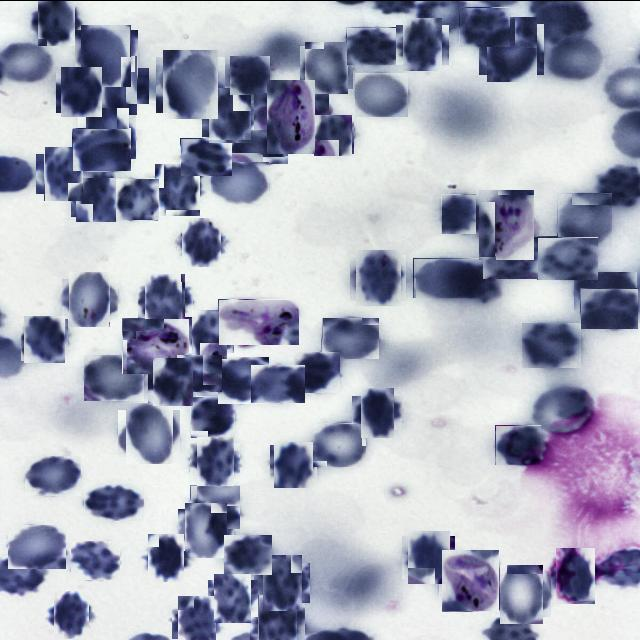red blood cell: (159, 53, 222, 115), (482, 19, 540, 78), (531, 383, 595, 433), (78, 27, 134, 82), (557, 192, 612, 246), (122, 406, 176, 460), (413, 257, 485, 297), (84, 354, 144, 400), (496, 568, 548, 620), (537, 236, 598, 280), (522, 322, 581, 367), (81, 110, 132, 162), (8, 524, 66, 568), (353, 252, 404, 302), (72, 127, 131, 170), (354, 71, 408, 116), (153, 164, 202, 213), (205, 90, 254, 139), (182, 504, 230, 554), (218, 356, 269, 403), (322, 316, 379, 358), (574, 271, 637, 309), (212, 161, 270, 202), (580, 287, 638, 328), (313, 422, 367, 466), (95, 61, 144, 109), (483, 236, 538, 278), (142, 276, 190, 324), (66, 274, 114, 322), (302, 42, 350, 90), (404, 532, 452, 580), (552, 550, 600, 598), (258, 558, 306, 606), (547, 37, 601, 79), (25, 455, 81, 495), (190, 484, 240, 528), (40, 150, 86, 197), (84, 484, 144, 520), (400, 21, 446, 67), (228, 128, 288, 163), (59, 68, 104, 114), (251, 364, 305, 402), (459, 6, 510, 46), (74, 174, 120, 218), (254, 597, 301, 640), (179, 220, 224, 264), (22, 317, 67, 361), (150, 359, 194, 404), (180, 137, 232, 175), (193, 439, 237, 483), (211, 576, 255, 620), (174, 597, 219, 640), (224, 534, 272, 574), (71, 540, 120, 579), (346, 26, 396, 64), (190, 395, 235, 437), (294, 351, 340, 392), (272, 442, 315, 485), (188, 312, 230, 356), (495, 424, 541, 464), (145, 536, 188, 578), (34, 0, 78, 41), (50, 594, 92, 636), (116, 178, 158, 220), (356, 391, 398, 433), (176, 353, 222, 391), (313, 114, 353, 154), (230, 55, 270, 94), (441, 193, 476, 233)
trophozoite: (474, 192, 538, 255), (260, 85, 322, 147), (122, 317, 189, 373), (218, 298, 299, 344), (440, 550, 500, 610)
